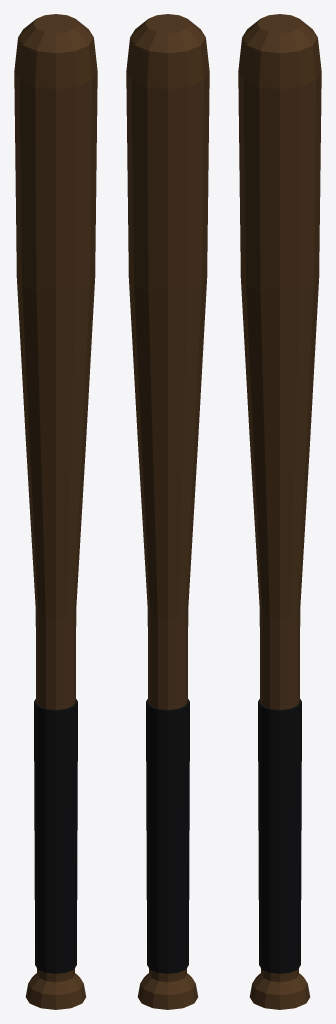
The model's file is Bat.obj.
The picture shows the model from 3 angles, left to right: view 1: azimuth 30°, elevation 25°; view 2: azimuth 150°, elevation 25°; view 3: azimuth 330°, elevation 25°; orthographic projection.
Parts seen in each view (by area): view 1: Ash, Dark; view 2: Ash, Dark; view 3: Ash, Dark.
Boxes of the visible parts, x1=… form: Ash: x1=14, y1=14, x2=97, y2=1009; Dark: x1=34, y1=699, x2=77, y2=973; Ash: x1=126, y1=14, x2=209, y2=1009; Dark: x1=146, y1=699, x2=189, y2=973; Ash: x1=238, y1=14, x2=321, y2=1009; Dark: x1=258, y1=699, x2=301, y2=973.
Size of the model in its own units: 0.066 by 0.854 by 0.066.
